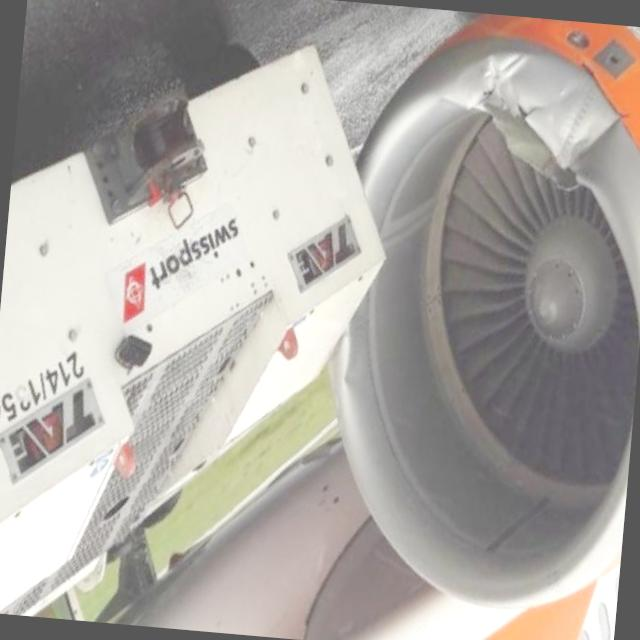crack: (475, 93, 586, 189)
dent: (323, 308, 376, 392), (478, 46, 537, 101), (572, 116, 618, 176)
